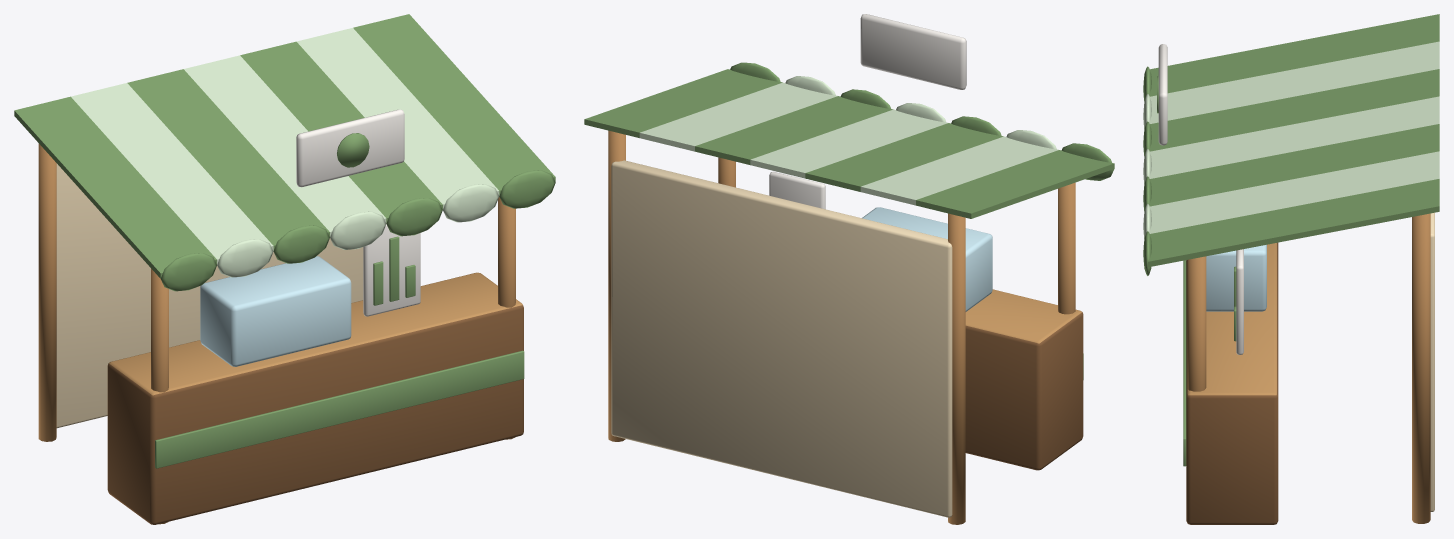
File: festival-booth-fish.glb
3 views of the same model, side by side, from view 1: azimuth 30°, elevation 25°; view 2: azimuth 150°, elevation 25°; view 3: azimuth 270°, elevation 25° (orthographic). The views are drawn at different scales.
Visible parts, largest first — view 1: booth, goods; view 2: booth, goods; view 3: booth, goods.
Boxes of the visible parts, x1,y1,x2,y2 form: booth: (14,14,555,524); goods: (200,224,420,366); booth: (584,14,1114,524); goods: (769,171,992,311); booth: (1143,14,1439,524); goods: (1206,244,1266,354).
Bounding box in the file's own units: 2.96 × 2.64 × 1.93.
